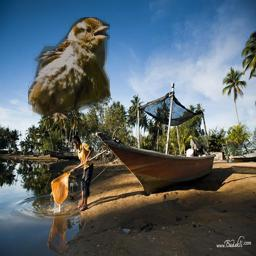Sparrow: (28, 17, 110, 119)
